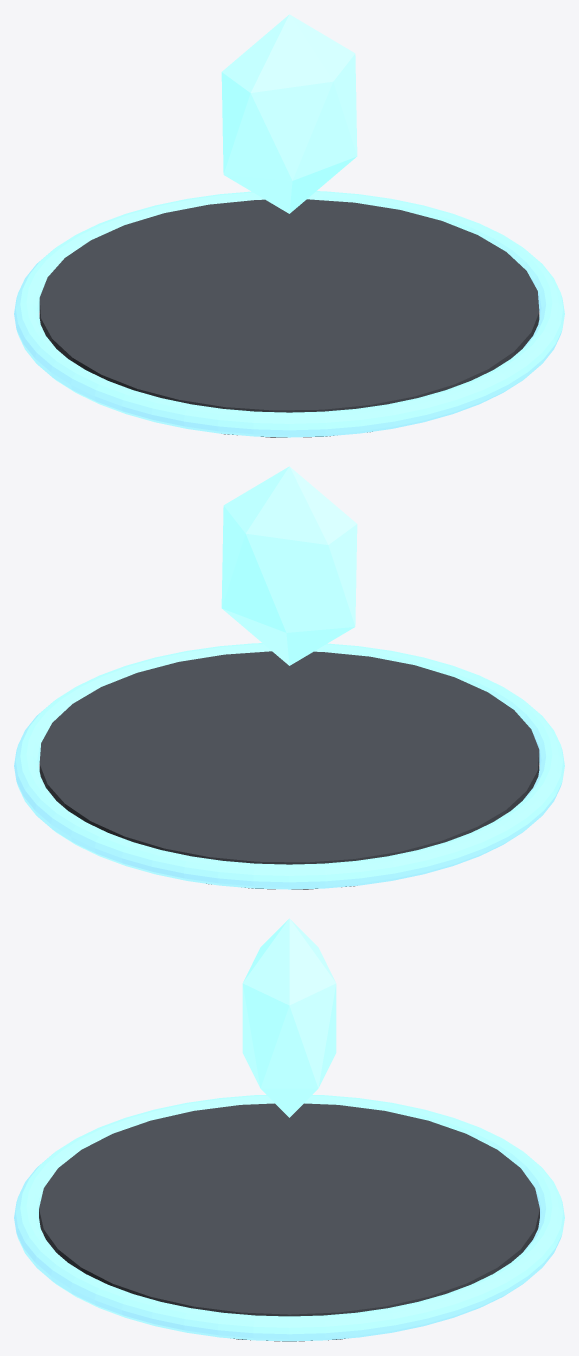
The model's file is channel_tip.glb.
3 renders of one model, top to bottom at view 1: azimuth 30°, elevation 25°; view 2: azimuth 150°, elevation 25°; view 3: azimuth 270°, elevation 25°, orthographic.
Visible parts, largest first — view 1: tip_base, tip_glow, tip_emblem; view 2: tip_base, tip_glow, tip_emblem; view 3: tip_base, tip_glow, tip_emblem.
Part boxes in pixels (left/top/right/bottom): tip_base: left=39, top=199, right=539, bottom=437; tip_glow: left=14, top=191, right=564, bottom=437; tip_emblem: left=221, top=14, right=357, bottom=213; tip_base: left=39, top=651, right=539, bottom=889; tip_glow: left=14, top=643, right=564, bottom=889; tip_emblem: left=221, top=466, right=357, bottom=665; tip_base: left=39, top=1103, right=539, bottom=1341; tip_glow: left=14, top=1095, right=564, bottom=1341; tip_emblem: left=242, top=918, right=336, bottom=1117.
Size of the model in its own units: 2.2 by 1.4 by 2.2.
